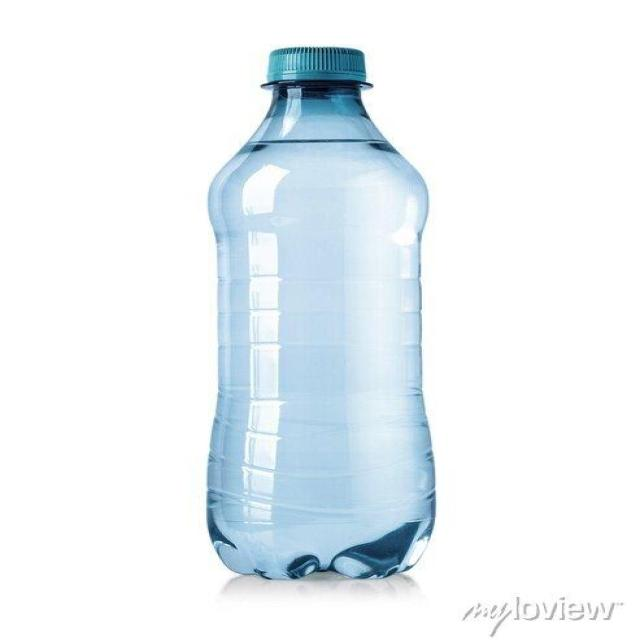plastic: (196, 36, 443, 583)
